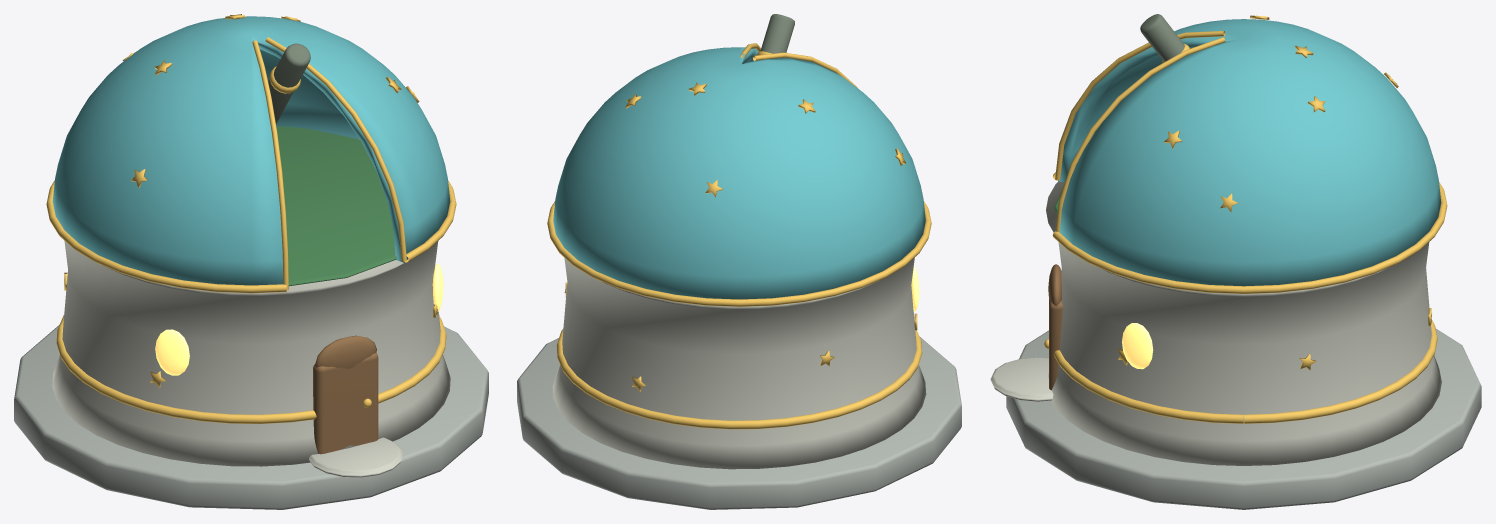
Rendered from decor-star-observatory.glb.
3 views of the same model, side by side, from view 1: azimuth 30°, elevation 25°; view 2: azimuth 150°, elevation 25°; view 3: azimuth 270°, elevation 25° (orthographic). The views are drawn at different scales.
Parts seen in each view (by area): view 1: star-observatory-water.010, star-observatory-lightstone.010, star-observatory-stone.010, star-observatory-deep.010, star-observatory-gold.010, star-observatory-wood.010, star-observatory-glass.010, star-observatory-bronze.010; view 2: star-observatory-water.010, star-observatory-lightstone.010, star-observatory-stone.010, star-observatory-gold.010, star-observatory-bronze.010; view 3: star-observatory-water.010, star-observatory-lightstone.010, star-observatory-stone.010, star-observatory-gold.010, star-observatory-wood.010, star-observatory-bronze.010, star-observatory-glass.010.
Boxes of the visible parts, box(x1,y1,x2,y2) form: star-observatory-water.010: box(52, 16, 450, 285); star-observatory-lightstone.010: box(52, 241, 450, 477); star-observatory-stone.010: box(14, 325, 488, 509); star-observatory-deep.010: box(276, 126, 396, 286); star-observatory-gold.010: box(46, 14, 456, 423); star-observatory-wood.010: box(313, 335, 378, 454); star-observatory-glass.010: box(155, 263, 443, 375); star-observatory-bronze.010: box(268, 43, 310, 123); star-observatory-water.010: box(553, 47, 925, 299); star-observatory-lightstone.010: box(552, 257, 926, 469); star-observatory-stone.010: box(517, 336, 961, 509); star-observatory-gold.010: box(547, 43, 931, 429); star-observatory-bronze.010: box(760, 14, 794, 53); star-observatory-water.010: box(1058, 19, 1441, 286); star-observatory-lightstone.010: box(990, 181, 1441, 465); star-observatory-stone.010: box(1006, 328, 1481, 509); star-observatory-gold.010: box(1044, 15, 1447, 423); star-observatory-wood.010: box(1048, 264, 1062, 390); star-observatory-bronze.010: box(1140, 14, 1184, 61); star-observatory-glass.010: box(1122, 323, 1153, 369).
Bounding box in the file's own units: 6 × 5.51 × 6.2.
